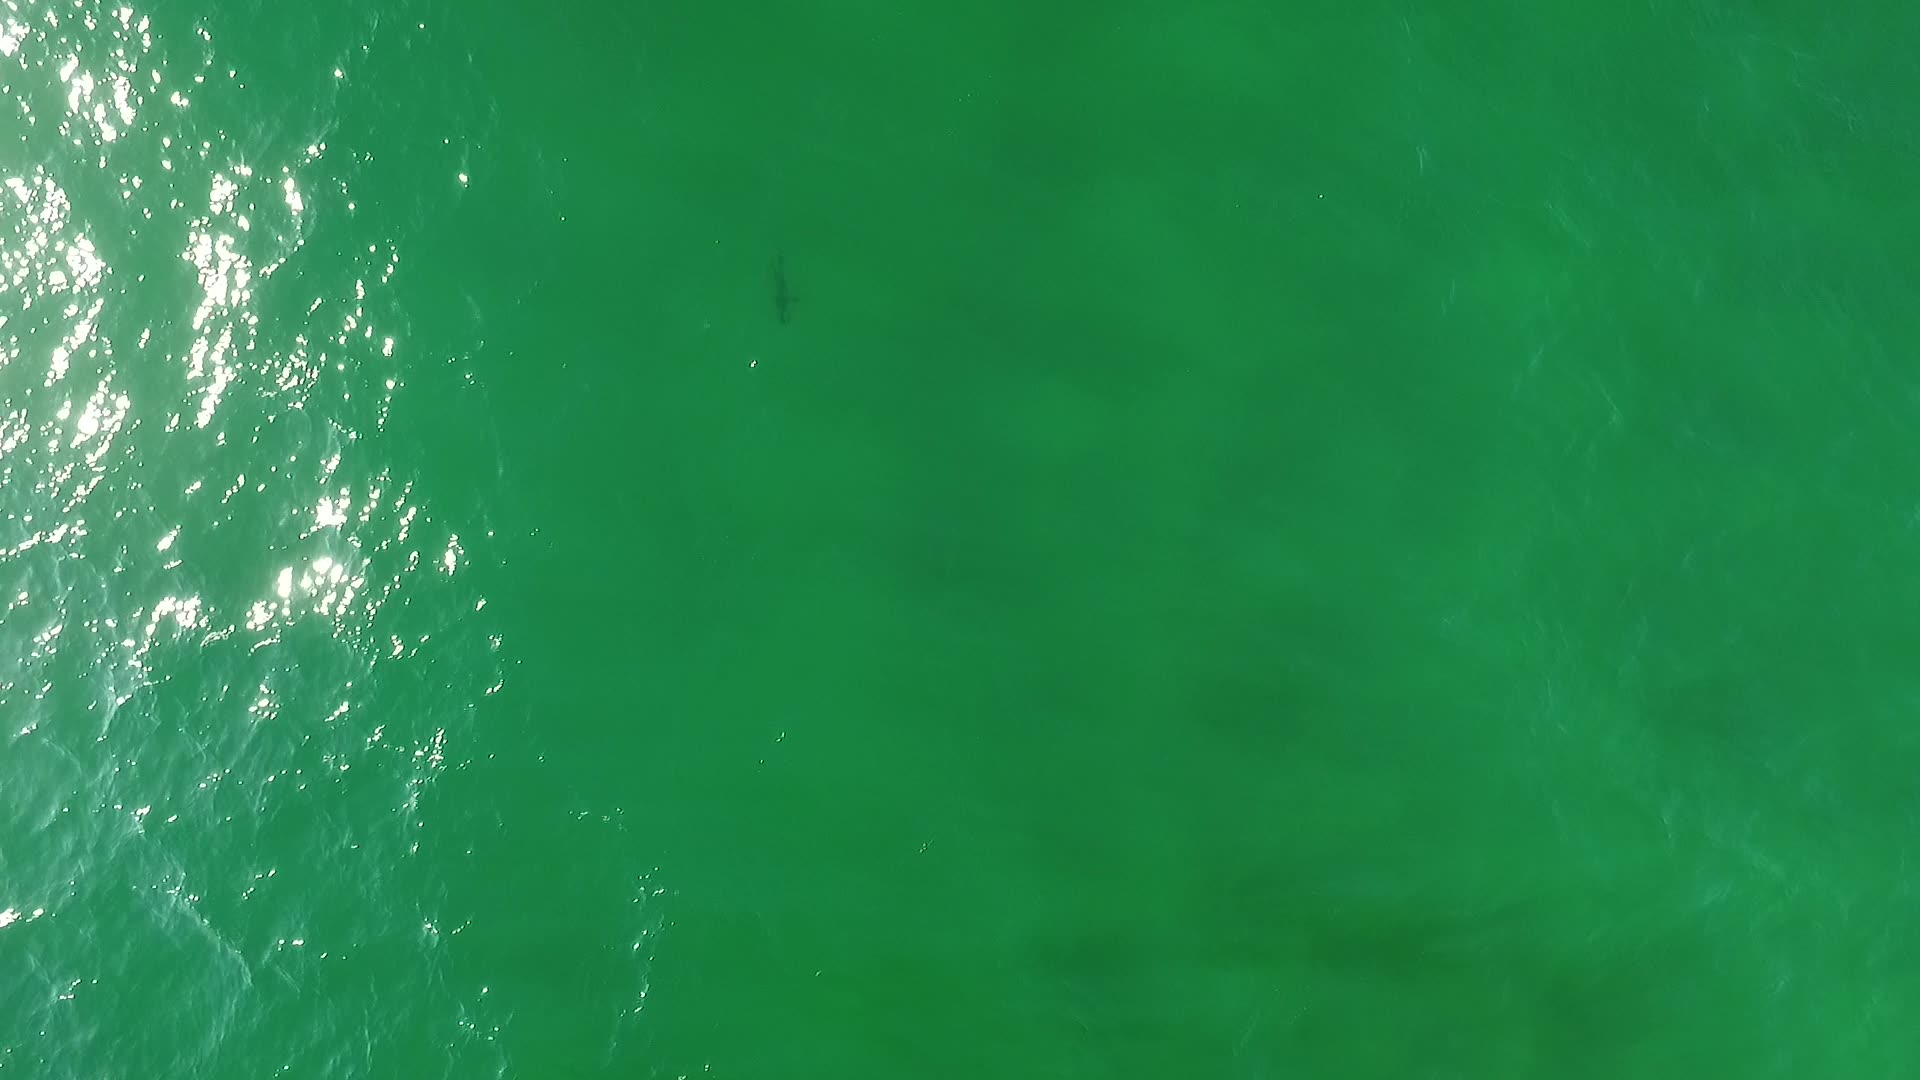shark: (760, 249, 804, 328)
